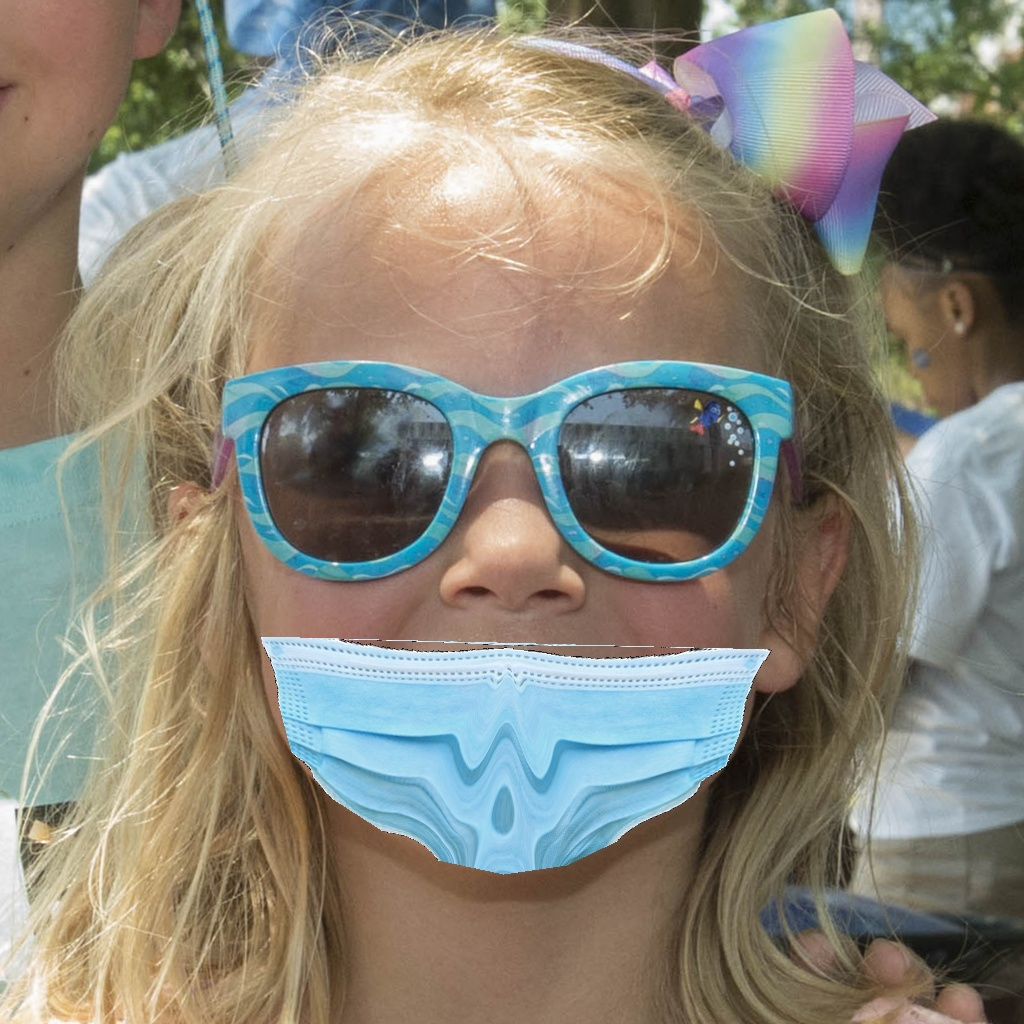mask_weared_incorrect: (223, 348, 783, 879)
